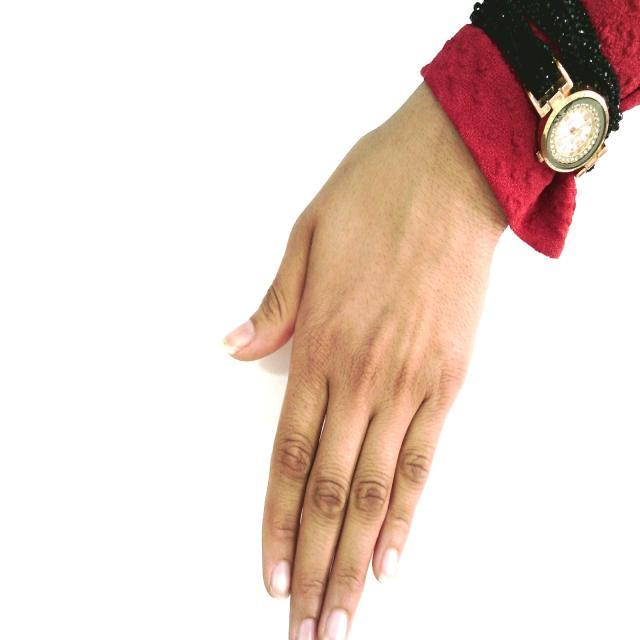Fingernail: (223, 322, 254, 349), (271, 561, 289, 597), (326, 609, 347, 639), (379, 548, 397, 582), (297, 618, 315, 639)
